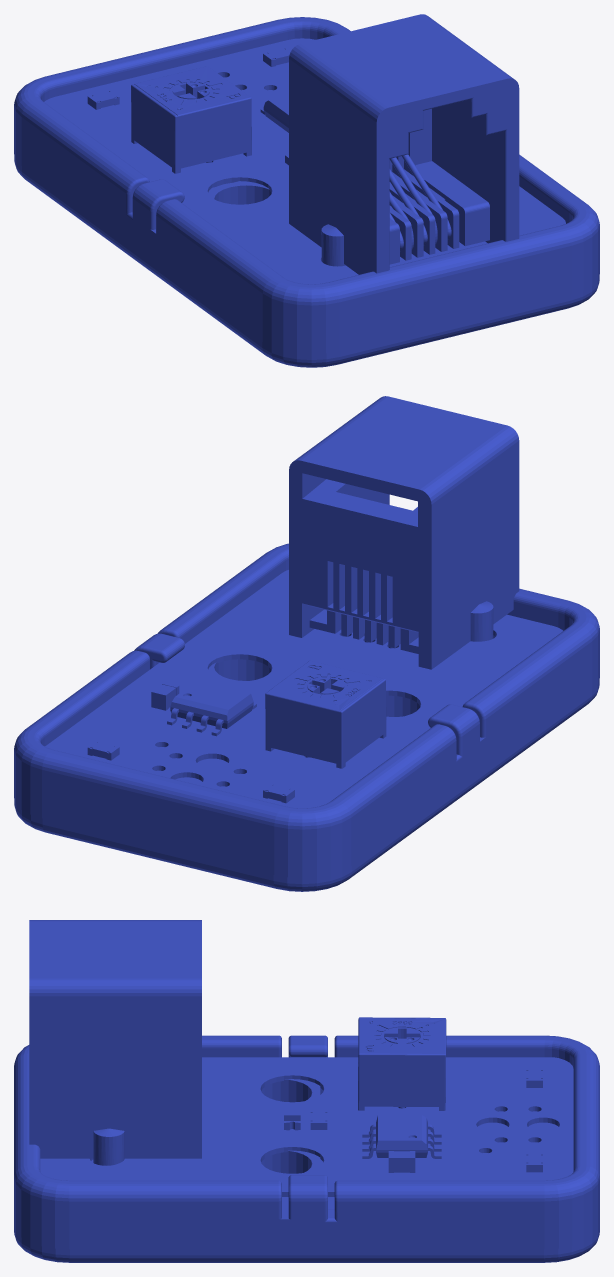
The model's file is Ir_Sensor.glb.
3 renders of one model, top to bottom at view 1: azimuth 30°, elevation 25°; view 2: azimuth 150°, elevation 25°; view 3: azimuth 270°, elevation 25°, orthographic.
Visible parts, largest first — view 1: defaultobject; view 2: defaultobject; view 3: defaultobject.
Part boxes in pixels (x1=…): defaultobject: x1=14, y1=14, x2=599, y2=367; defaultobject: x1=14, y1=396, x2=599, y2=891; defaultobject: x1=14, y1=920, x2=599, y2=1262.
Bounding box in the file's own units: 70.21 × 49.23 × 110.
